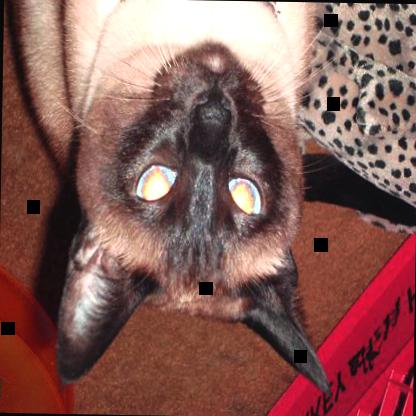cat: (3, 0, 337, 406)
